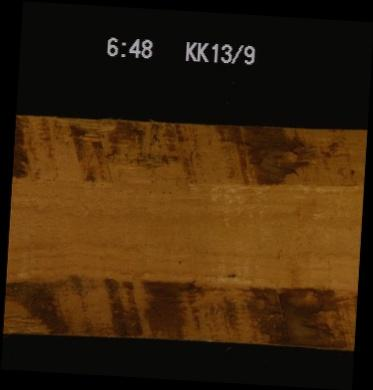wave: (13, 118, 362, 186), (3, 277, 353, 342)
